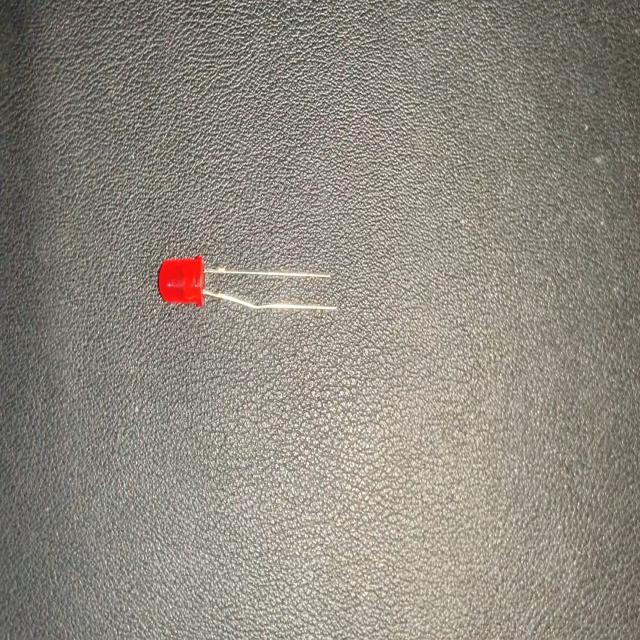LED: (157, 250, 338, 325)
